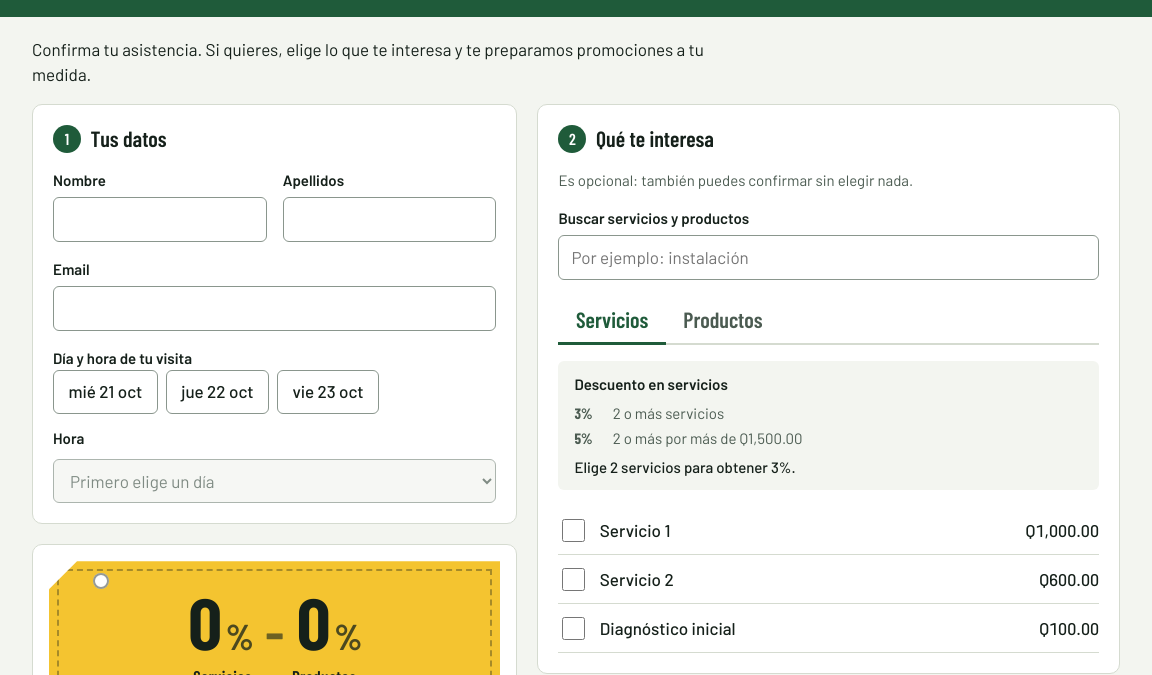
Test: validation › warns to wait when confirming is rate limited
The width and height of the screenshot is (1152, 675).
Type "Ana" into the field labelled "Nombre".
click(160, 219); type("Ana")  # box [53,197,267,242]
Type "Lopez" into the field labelled "Apellidos".
click(390, 219); type("Lopez")  # box [283,197,496,242]
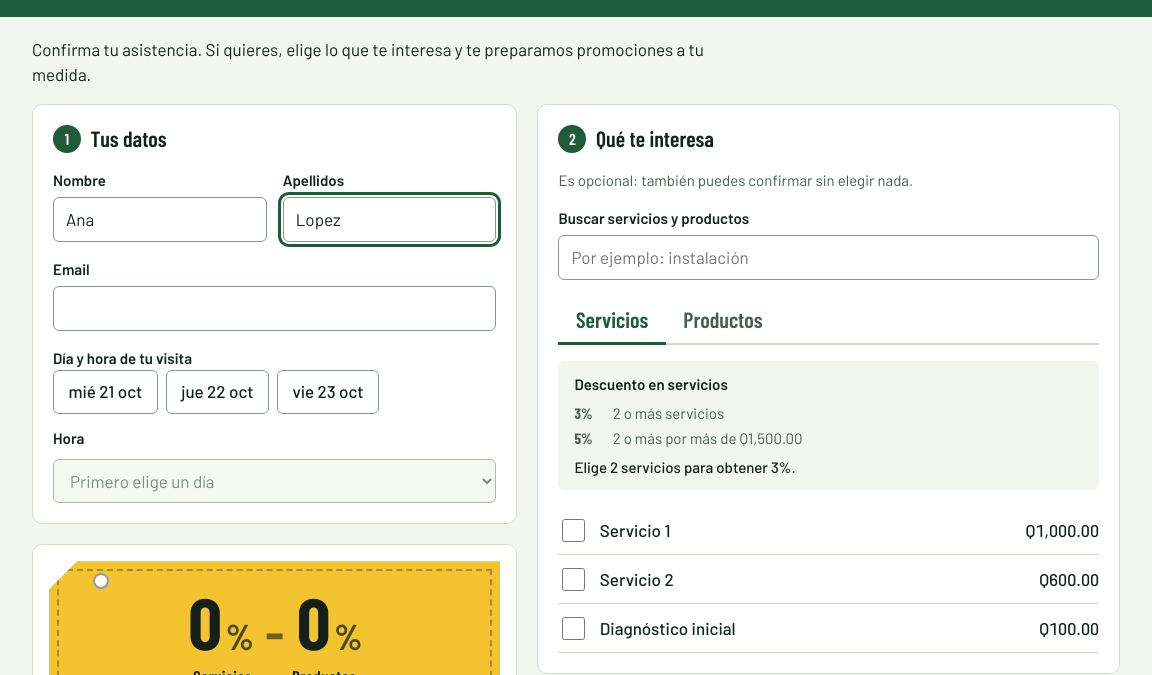
Type "ana@example.com" into the field labelled "Email".
click(275, 309); type("ana@example.com")  # box [53,286,496,331]
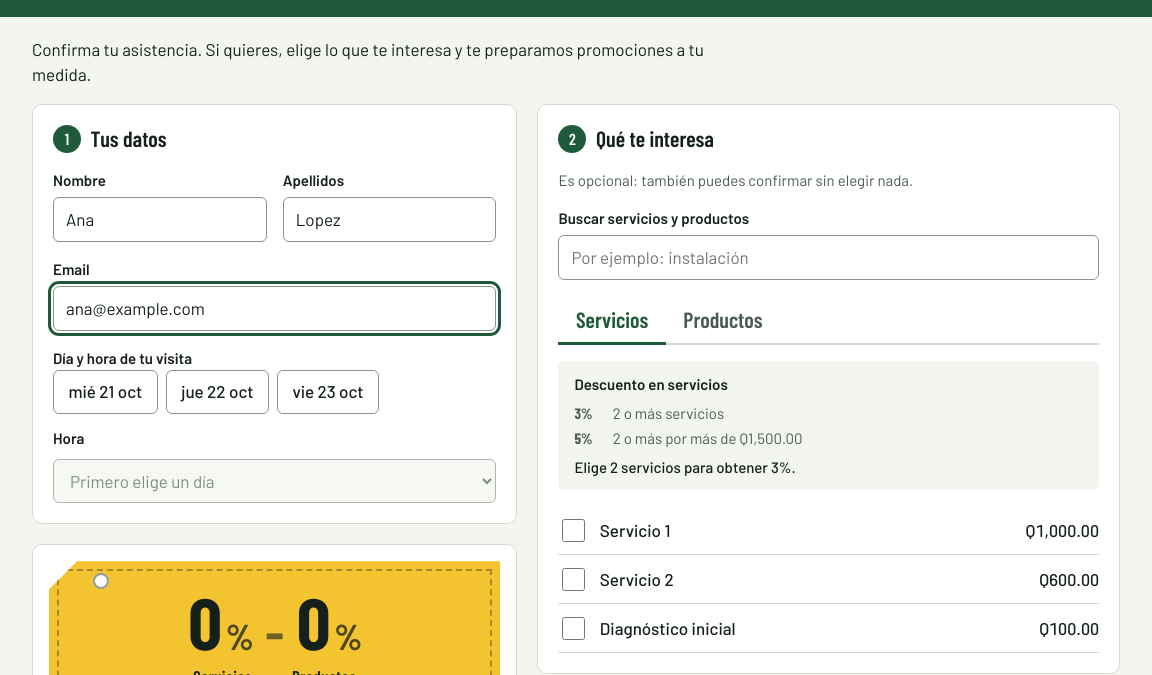
Click the 1st radio button.
click(105, 392)  # box [53,370,158,414]
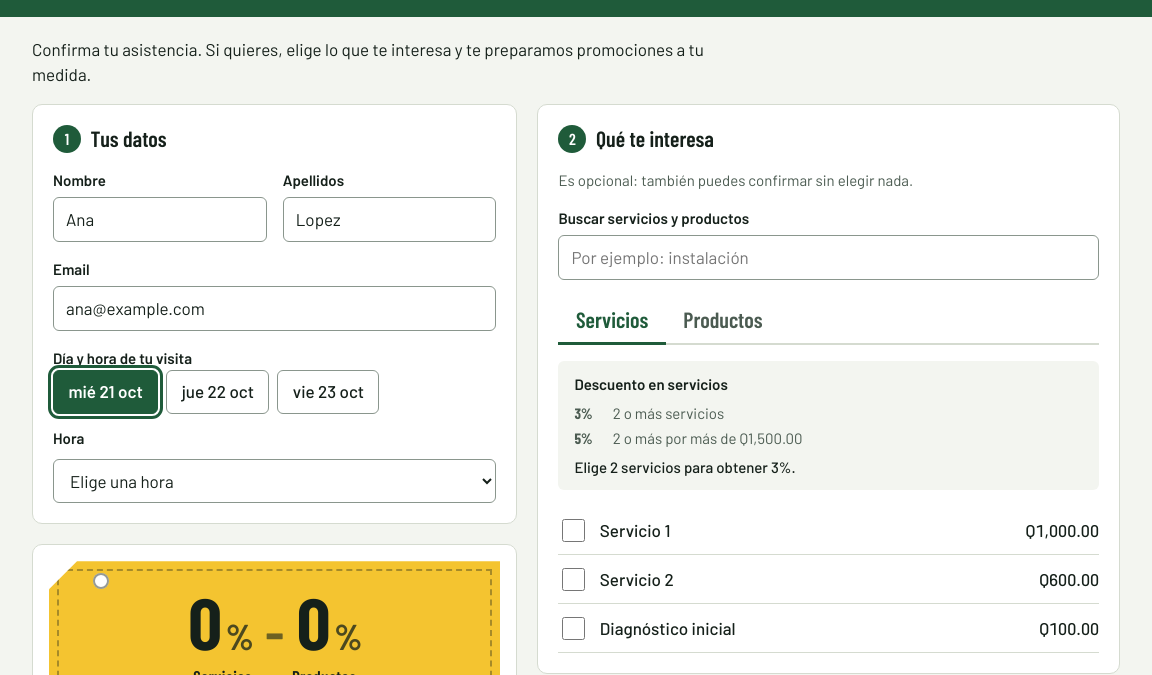
Select "10:00" in the dropdown labelled "Hora" at x=275, y=481, box [53,459,496,503]
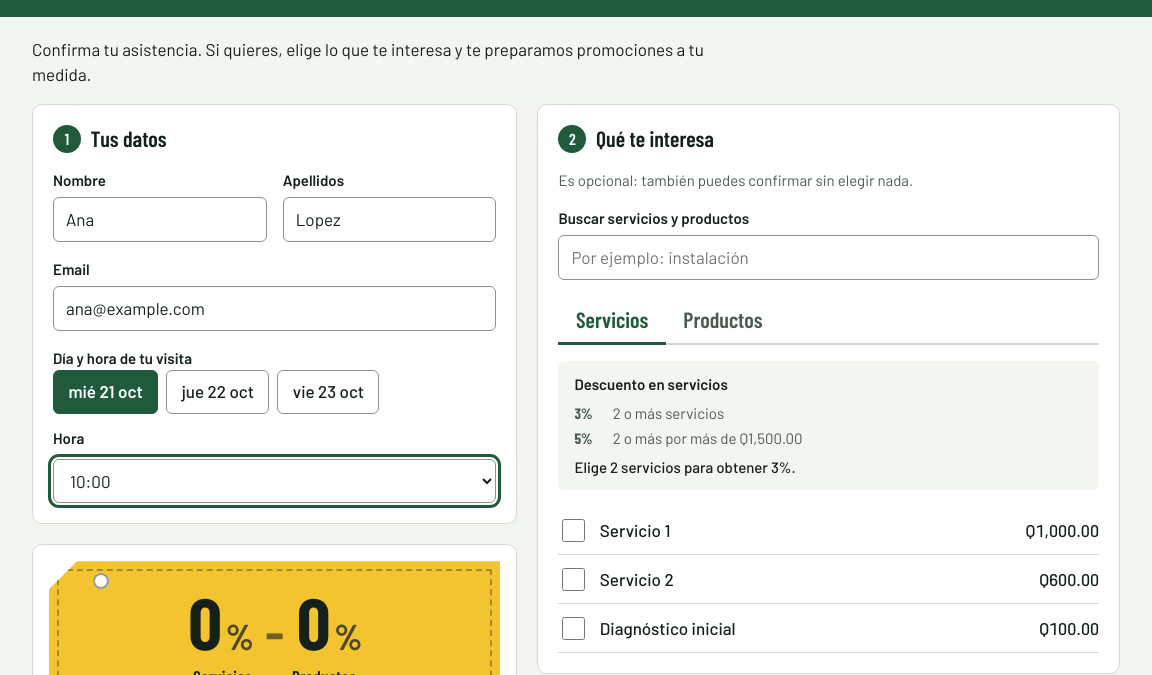
Click the checkbox labelled "Servicio 1 Q1,000.00".
click(574, 530)  # box [562,519,585,542]
(page scrolled)
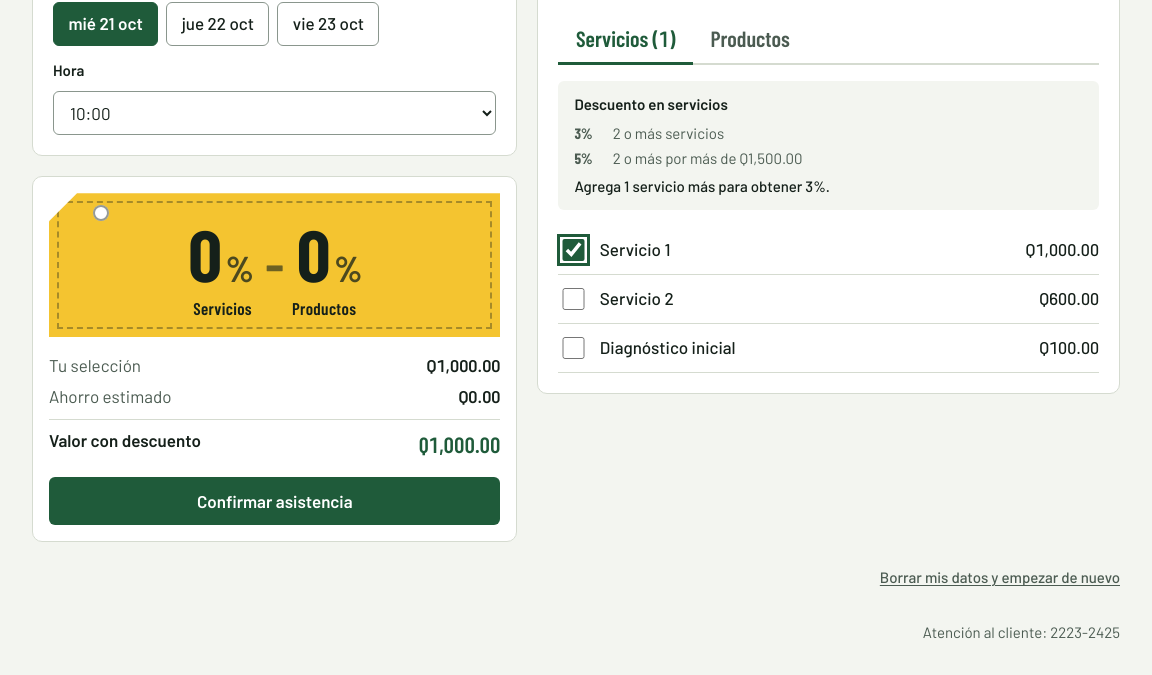
Click the button "Confirmar asistencia".
click(275, 501)  # box [49,477,500,525]
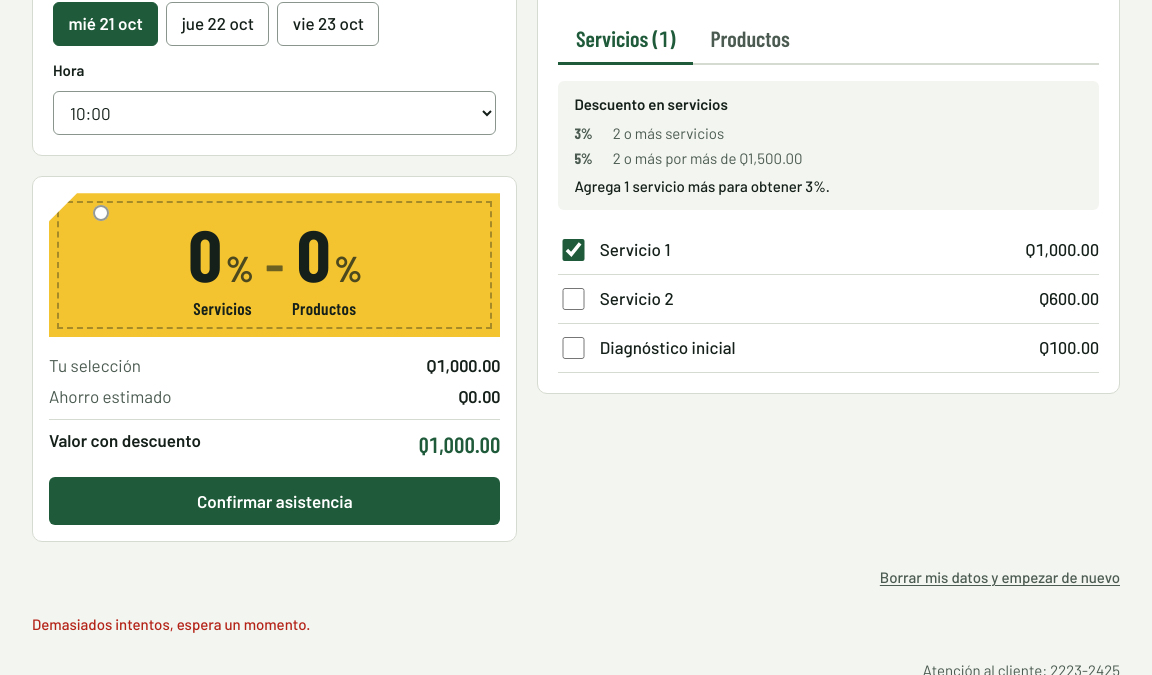
Check: the text "Demasiados intentos, espera un momento." is shown, box [32,615,310,633]
